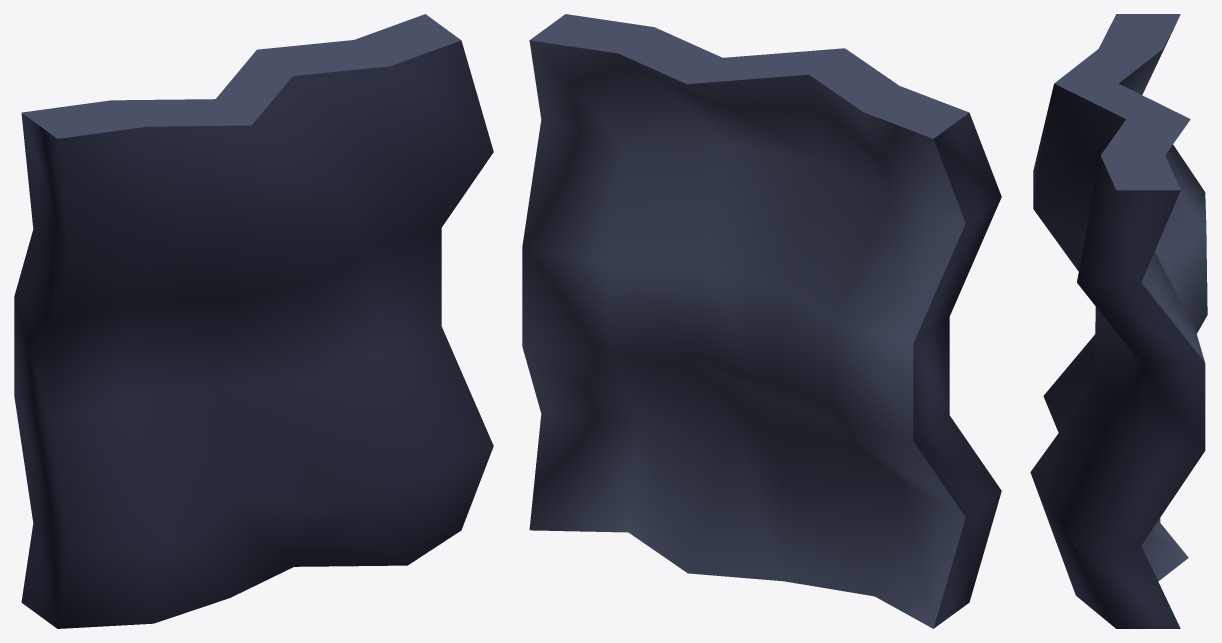
File: SM_Env_StormWall_LQ.glb
3 renders of one model, left to right at view 1: azimuth 30°, elevation 25°; view 2: azimuth 150°, elevation 25°; view 3: azimuth 270°, elevation 25°, orthographic. The views are drawn at different scales.
Parts seen in each view (by area): view 1: SM_Env_StormWall_LQ; view 2: SM_Env_StormWall_LQ; view 3: SM_Env_StormWall_LQ.
Part boxes in pixels (bbox=[...]): SM_Env_StormWall_LQ: bbox=[14, 14, 493, 628]; SM_Env_StormWall_LQ: bbox=[522, 14, 1001, 628]; SM_Env_StormWall_LQ: bbox=[1030, 14, 1207, 628].
Size of the model in its own units: 81.58 by 90 by 32.96.
1 material, 1 textured.
